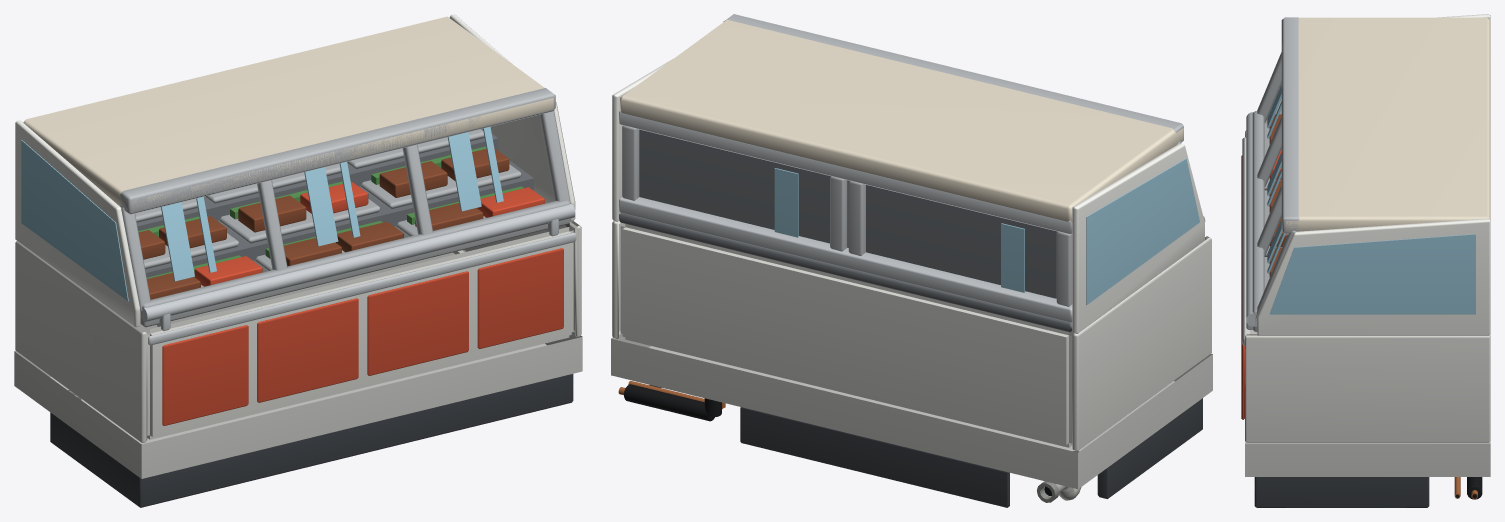
The model's file is ServiceCase_Meat_20.glb.
3 renders of one model, left to right at view 1: azimuth 30°, elevation 25°; view 2: azimuth 150°, elevation 25°; view 3: azimuth 270°, elevation 25°, orthographic. The views are drawn at different scales.
Visible parts, largest first — view 1: SM_ServiceCase_Meat_20; view 2: SM_ServiceCase_Meat_20; view 3: SM_ServiceCase_Meat_20.
Part boxes in pixels (x1,y1,x2,y2): SM_ServiceCase_Meat_20: (14, 14, 582, 507); SM_ServiceCase_Meat_20: (611, 14, 1212, 507); SM_ServiceCase_Meat_20: (1241, 14, 1490, 507).
Bounding box in the file's own units: 2.01 × 1.3 × 1.01.
Materials: 1 (1 with a texture image).
